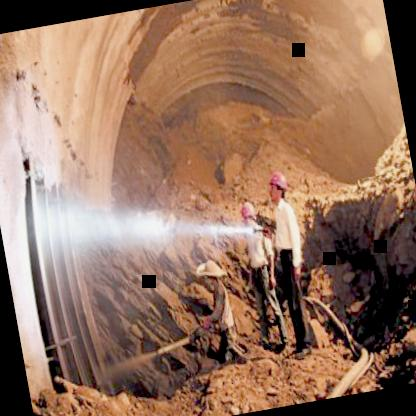helmet: (262, 164, 294, 211), (238, 197, 261, 232)
